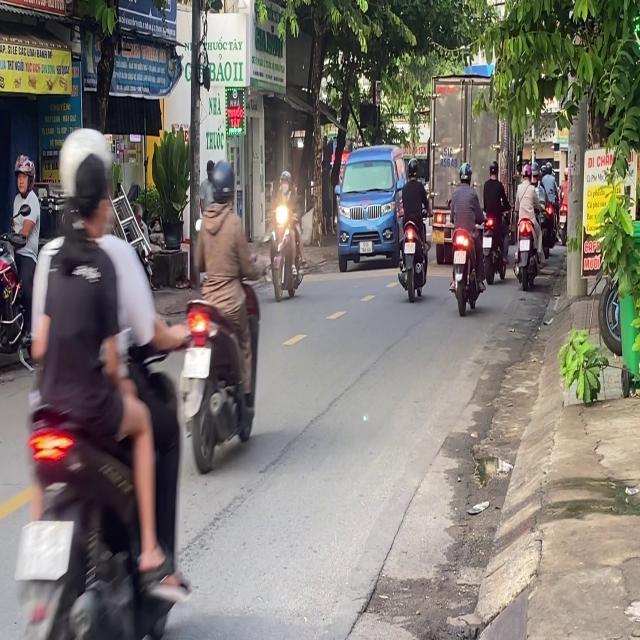helmet: (56, 126, 113, 192), (208, 158, 235, 208), (13, 154, 32, 194), (458, 160, 472, 183), (406, 156, 418, 178)
licenseplate: (9, 124, 192, 635), (178, 155, 262, 470), (0, 152, 41, 378), (448, 160, 484, 313), (395, 156, 430, 299)
motorcyclist: (68, 154, 112, 238)
nohelmet: (15, 522, 73, 581), (183, 347, 211, 379), (454, 250, 466, 263), (404, 242, 415, 255)
